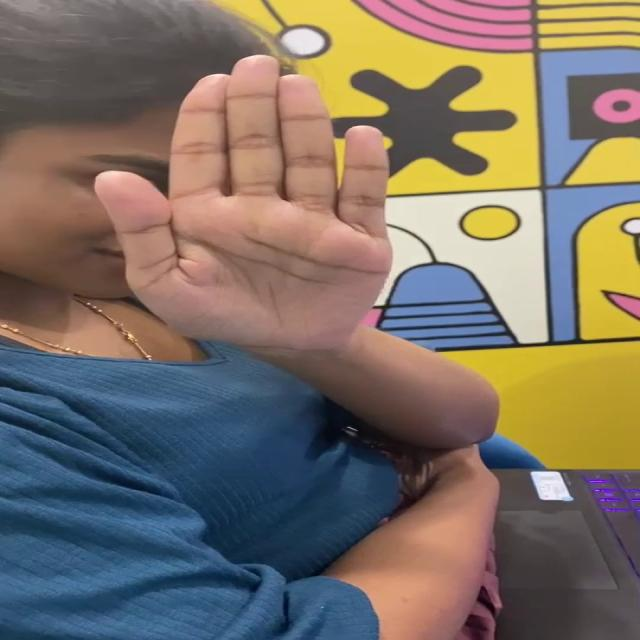no-gloves: (93, 38, 429, 360)
